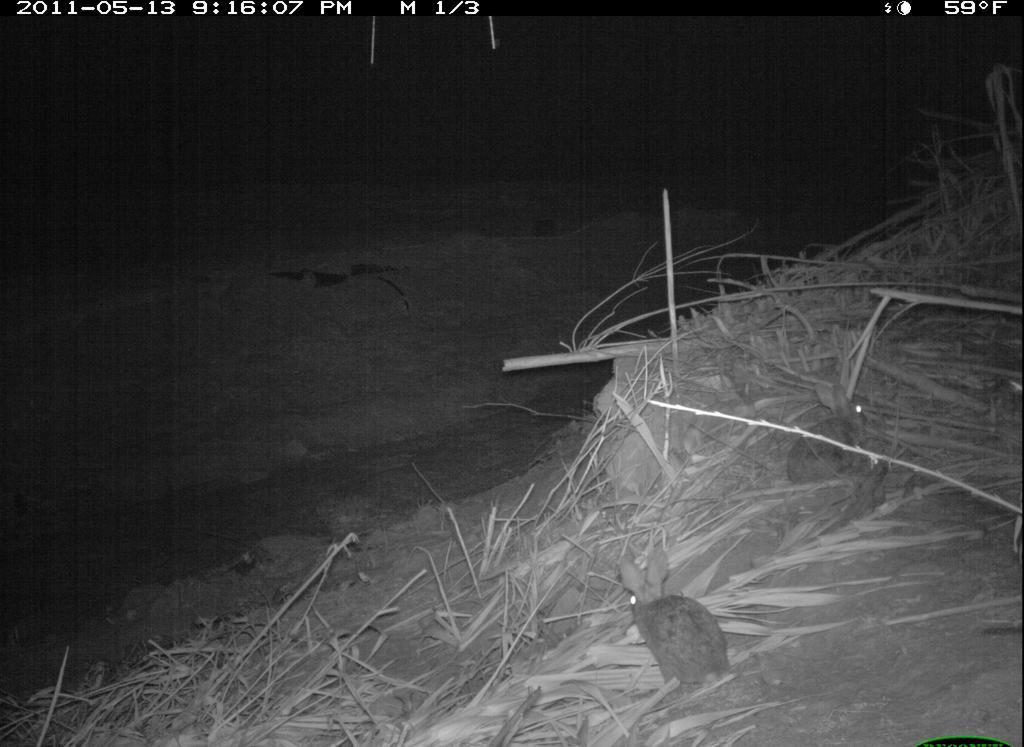rabbit: (612, 542, 739, 699), (776, 377, 893, 498)
